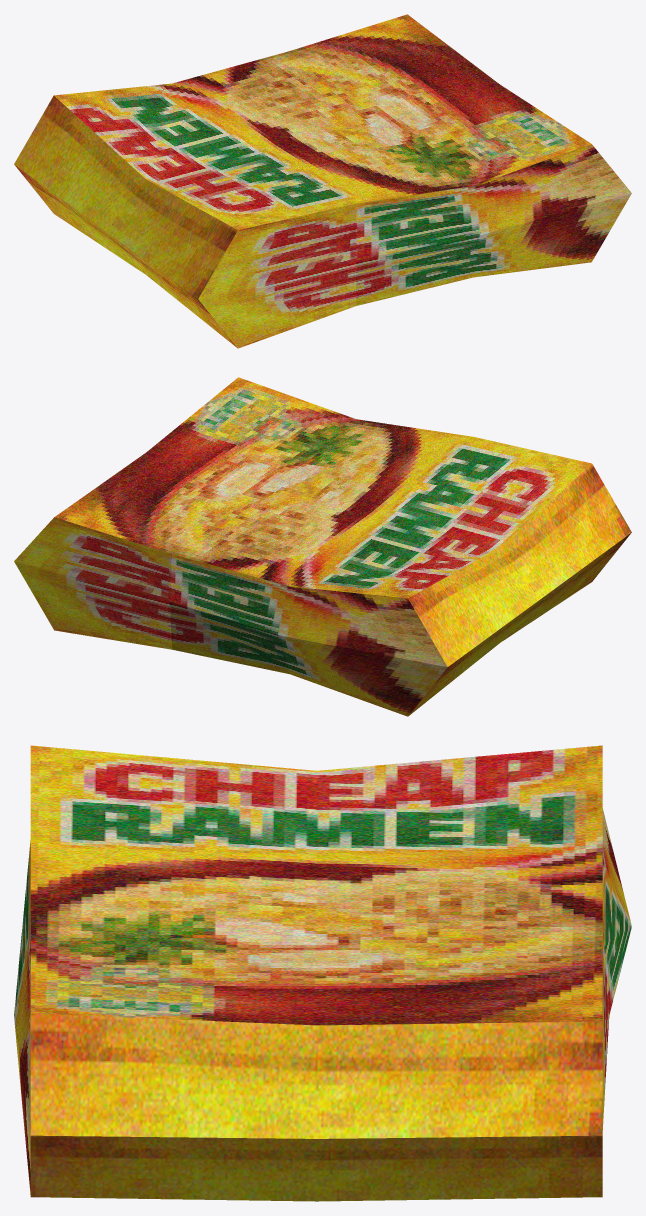
Rendered from cheap_ramen.glb.
The picture shows the model from 3 angles, top to bottom: view 1: azimuth 30°, elevation 25°; view 2: azimuth 150°, elevation 25°; view 3: azimuth 270°, elevation 25°; orthographic projection. The views are drawn at different scales.
Visible parts, largest first — view 1: ramen01; view 2: ramen01; view 3: ramen01.
Part boxes in pixels (x1,y1,x2,y2): ramen01: [14, 14, 631, 348]; ramen01: [14, 377, 631, 716]; ramen01: [14, 745, 631, 1201].
Bounding box in the file's own units: 0.2866 × 0.0758 × 0.2256.
1 material, 1 textured.
